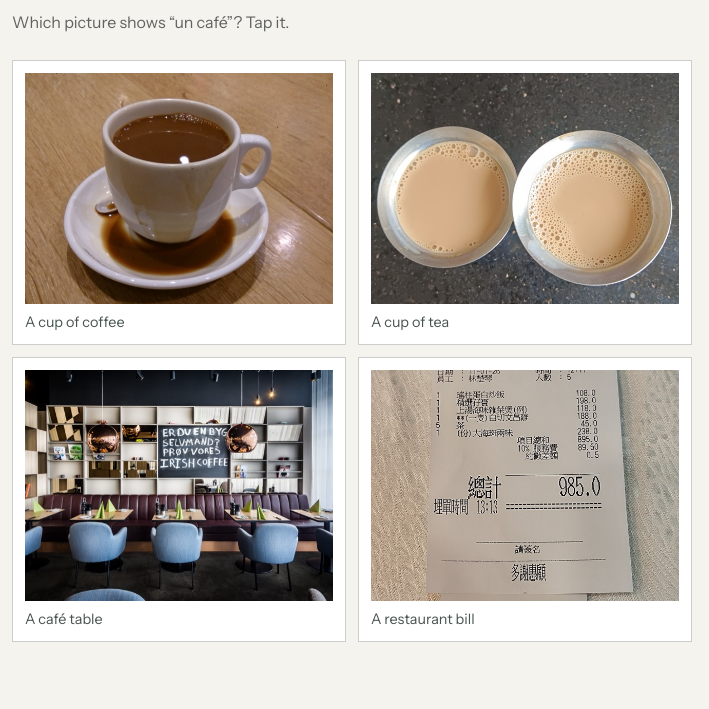
it: PictureChoice › reports exact when the correct picture is tapped
The width and height of the screenshot is (709, 709).
What coordinates should you click on to do the following:
click the radio button labelled "A cup of coffee"
I would click on:
 (179, 202)
Its box is [12,60,346,345].
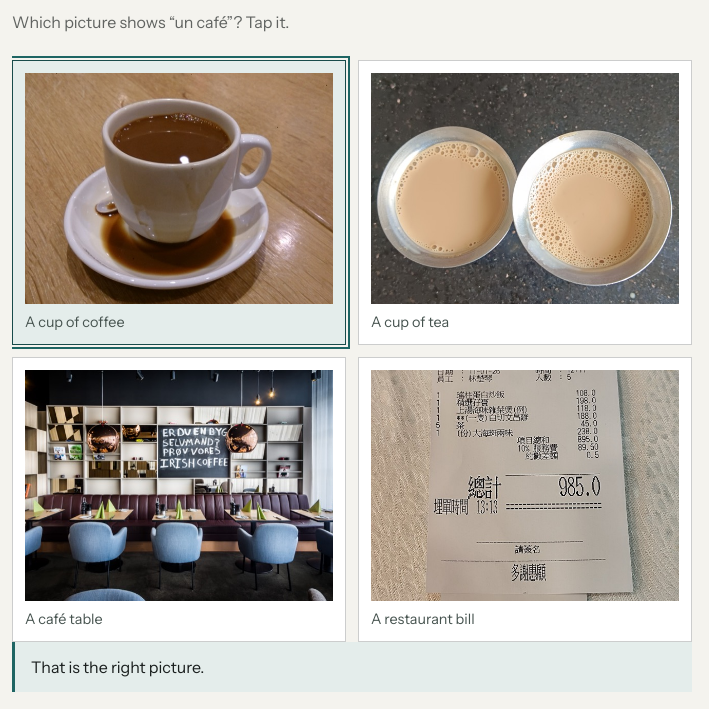
Check: the text "That is the right picture." is shown, box [12,642,692,692]
